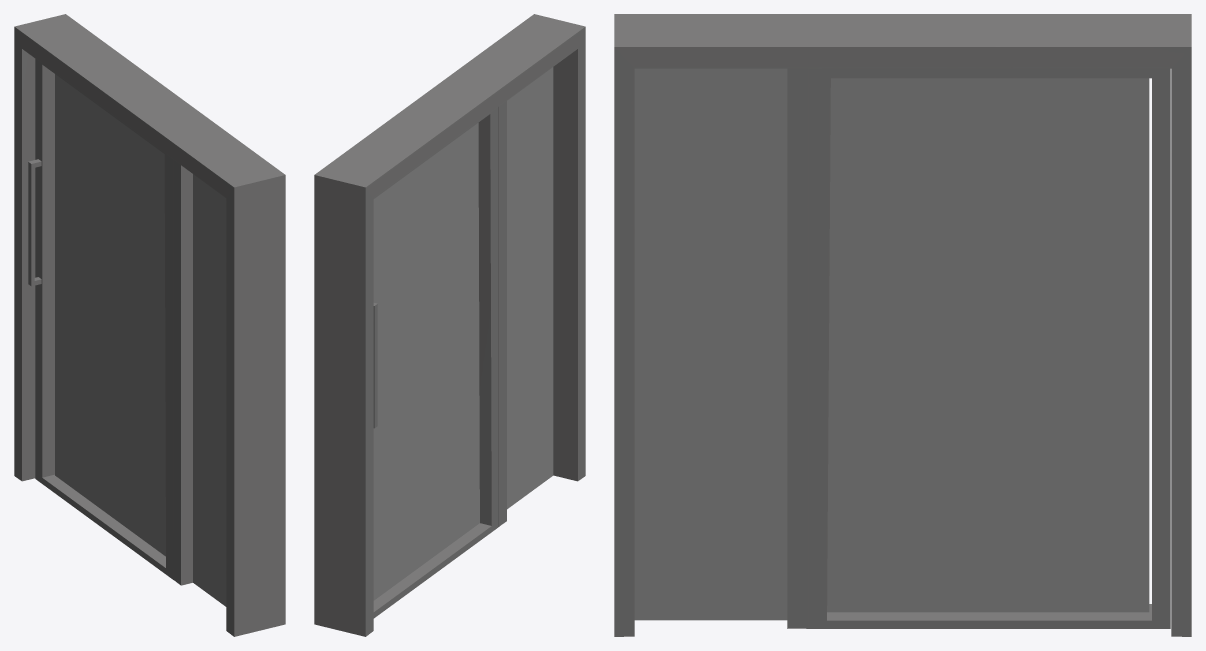
The model's file is XiuXiShi_BoLiMen.FBX.
3 renders of one model, left to right at view 1: azimuth 30°, elevation 25°; view 2: azimuth 150°, elevation 25°; view 3: azimuth 270°, elevation 25°, orthographic. The views are drawn at different scales.
Parts seen in each view (by area): view 1: YF_Model_XiuXiShi_Men, YF_XiuXiShi_BoLi; view 2: YF_Model_XiuXiShi_Men, YF_XiuXiShi_BoLi; view 3: YF_XiuXiShi_BoLi, YF_Model_XiuXiShi_Men.
Boxes of the visible parts, x1,y1,x2,y2 form: YF_Model_XiuXiShi_Men: (14, 14, 285, 636); YF_XiuXiShi_BoLi: (55, 74, 226, 606); YF_Model_XiuXiShi_Men: (314, 14, 585, 636); YF_XiuXiShi_BoLi: (373, 67, 553, 600); YF_XiuXiShi_BoLi: (634, 68, 1149, 620); YF_Model_XiuXiShi_Men: (614, 14, 1191, 636).
Bounding box in the file's own units: 29.94 × 250 × 222.
Materials: 2 (1 with a texture image).
